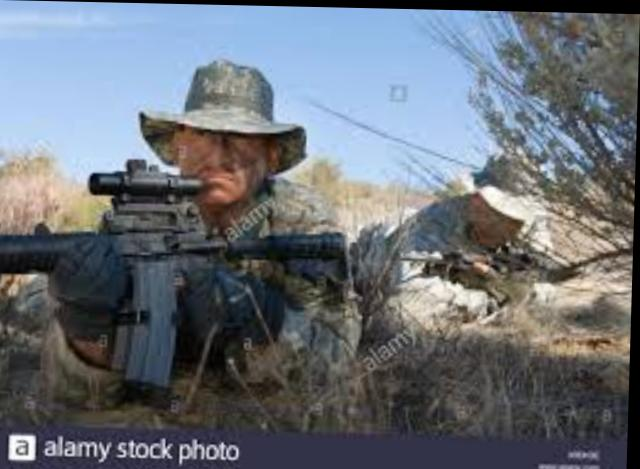other: (70, 63, 333, 395), (357, 173, 599, 301)
